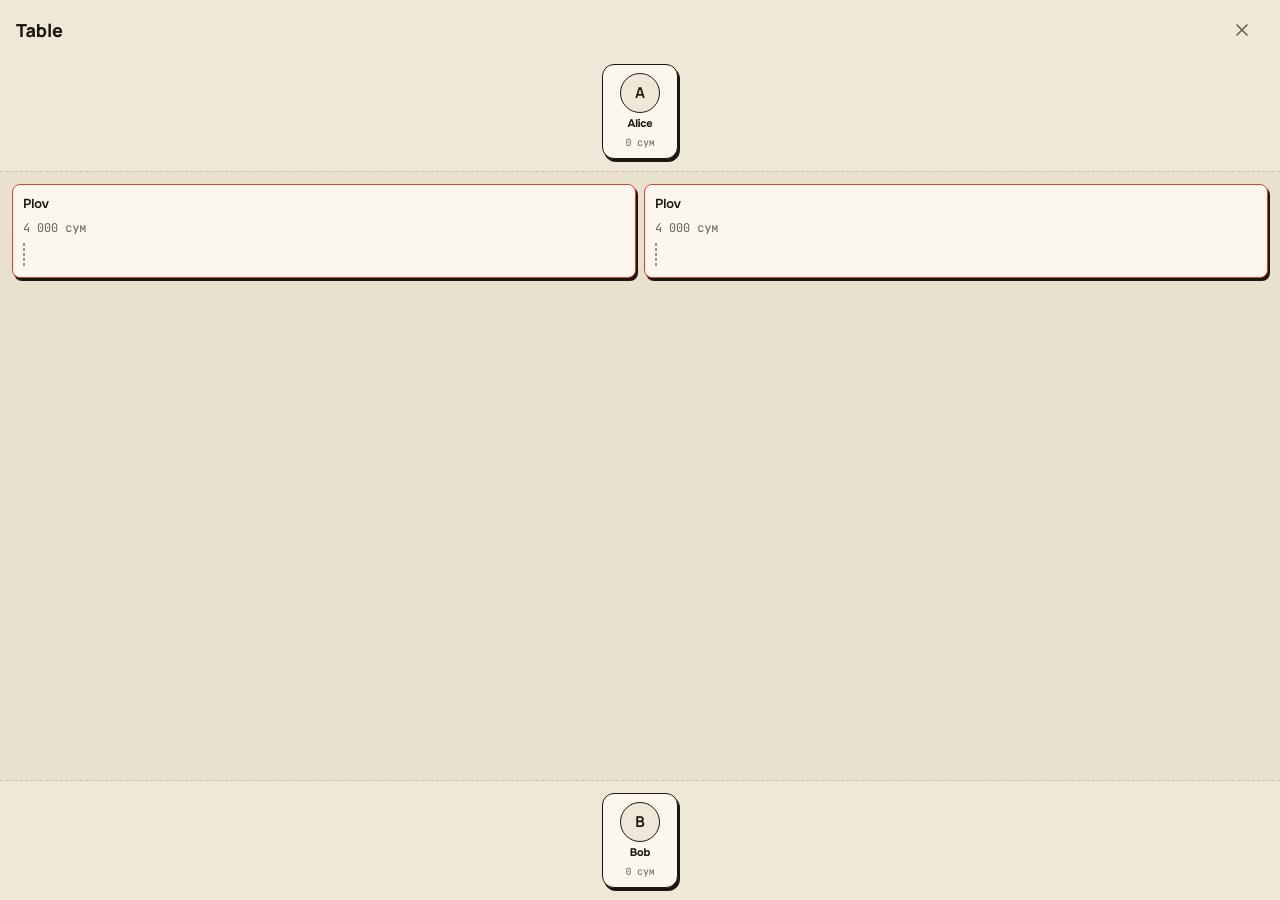
Test case: DishTable › the first tap after a drop opens the dish, though no click followed the drop
Press the mouse on the 1st button "Plov 4 000 сум": (55, 228) [12,184,636,278]
Click the 1st button "Plov 4 000 сум": (55, 228) [12,184,636,278]
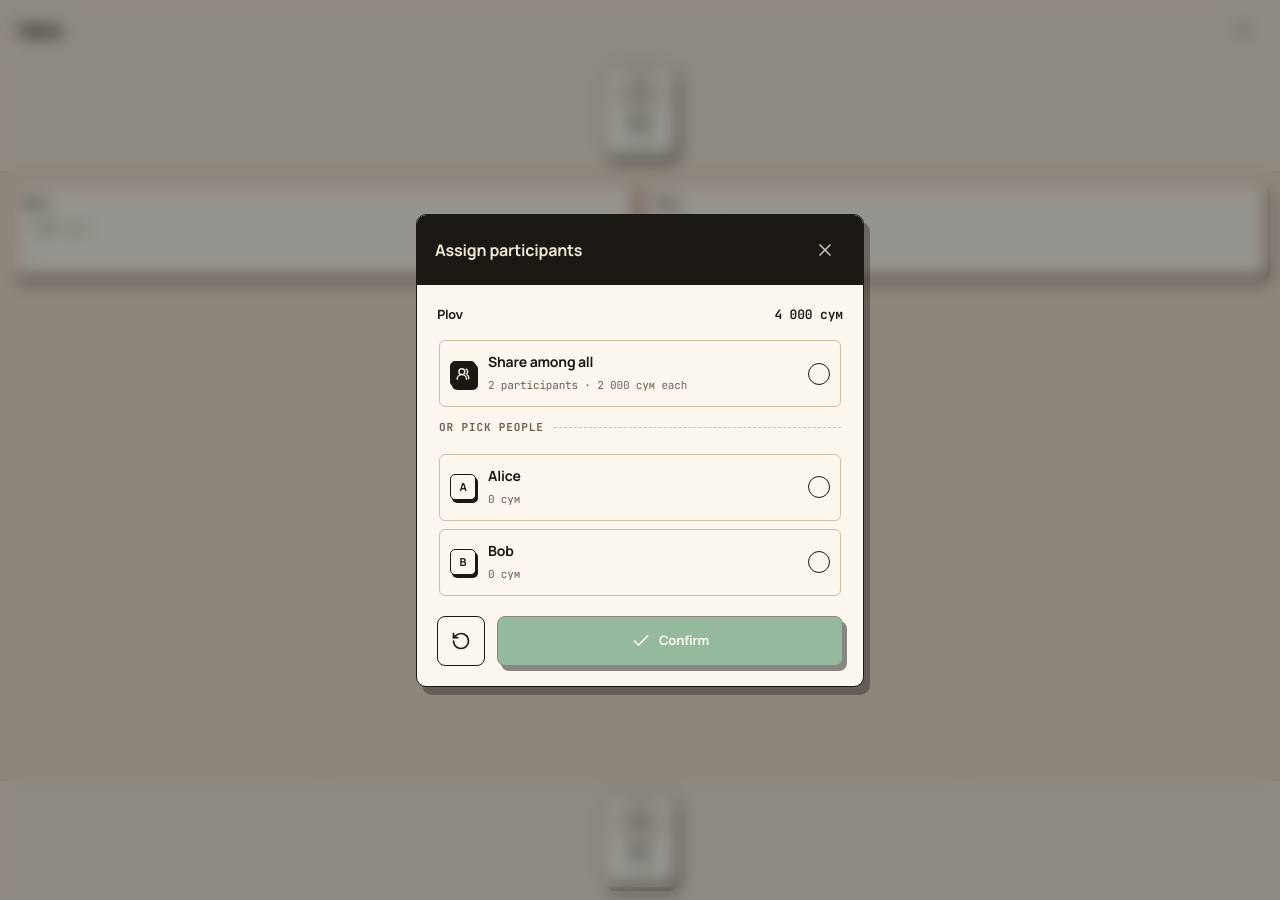
Result: the checkbox labelled "Bob" is shown at [439,528,841,596]
